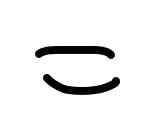eqv: (35, 45, 120, 95)
